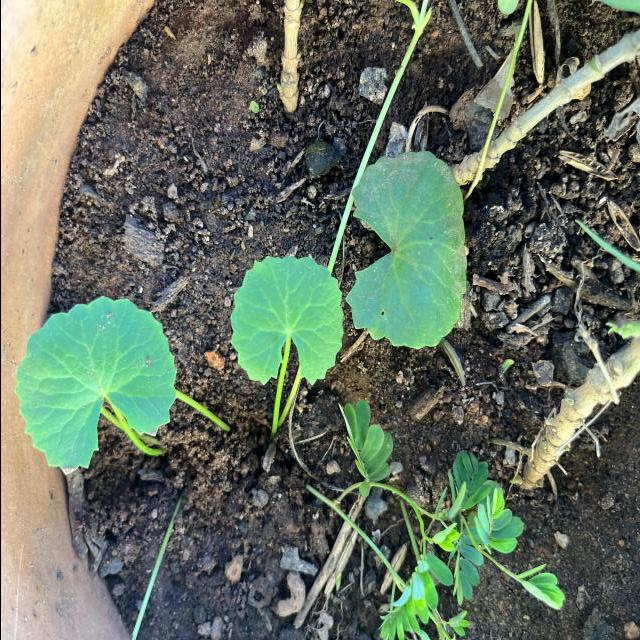Centella asiatica: (10, 292, 181, 478), (342, 145, 470, 355), (228, 252, 348, 391)
